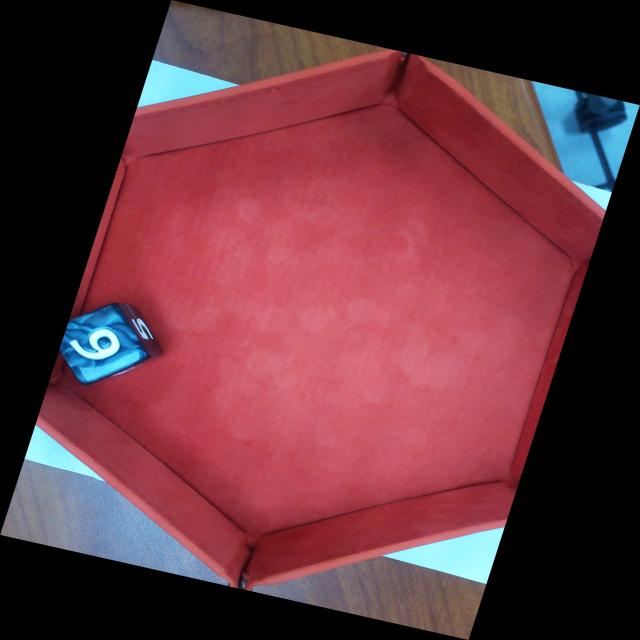dice: (65, 305, 154, 383)
